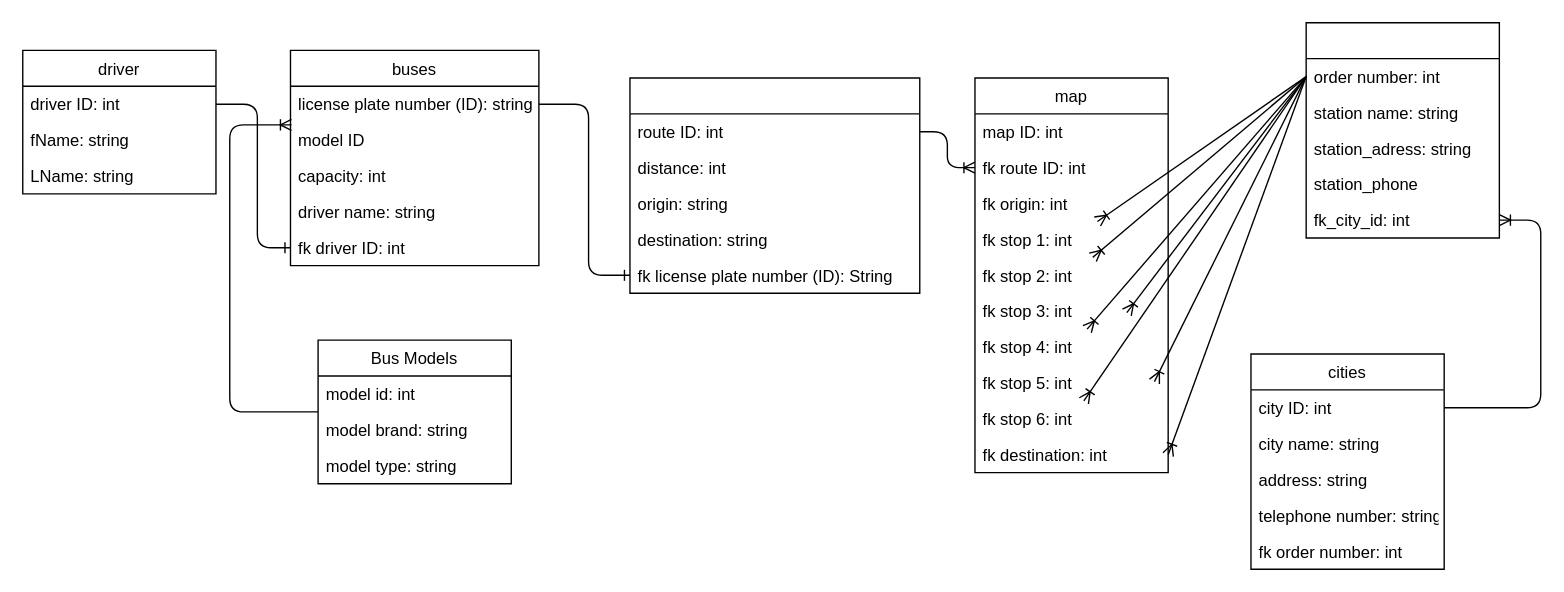
Some shapes in this 1564 by 592 pixel diagram are drawn without their labels. Each missing label, with the box of its shape:
bus station: (1305, 21, 1499, 238)
routes: (629, 77, 920, 293)
